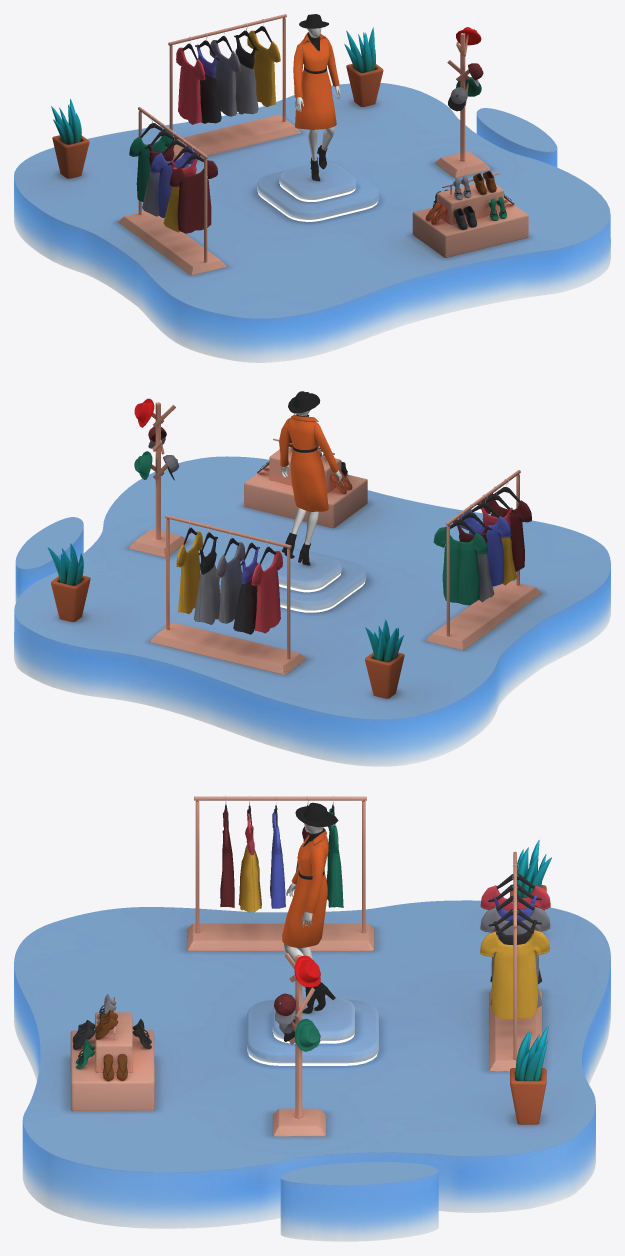
The model's file is LeviCam9.glb.
The picture shows the model from 3 angles, top to bottom: view 1: azimuth 30°, elevation 25°; view 2: azimuth 150°, elevation 25°; view 3: azimuth 270°, elevation 25°; orthographic projection. The views are drawn at different scales.
Parts seen in each view (by area): view 1: LeviCamBase, LeviCamSet, LeviCamManneDrs, LeviCamManneBdy, LeviCamBsGlw; view 2: LeviCamBase, LeviCamSet, LeviCamManneDrs, LeviCamManneBdy; view 3: LeviCamBase, LeviCamSet, LeviCamManneDrs, LeviCamManneBdy.
Boxes of the visible parts, x1,y1,x2,y2 form: LeviCamBase: (14,83,610,362); LeviCamSet: (51,14,528,275); LeviCamManneDrs: (293,14,339,181); LeviCamManneBdy: (295,28,340,161); LeviCamBsGlw: (258,184,378,221); LeviCamBase: (14,456,610,766); LeviCamSet: (47,398,541,698); LeviCamManneDrs: (279,391,338,565); LeviCamManneBdy: (280,410,341,544); LeviCamBase: (14,900,610,1241); LeviCamSet: (70,795,551,1136); LeviCamManneDrs: (282,802,338,1013); LeviCamManneBdy: (284,823,323,962).
Size of the model in its own units: 7.58 by 3.58 by 6.72.
7 materials, 4 textured.
